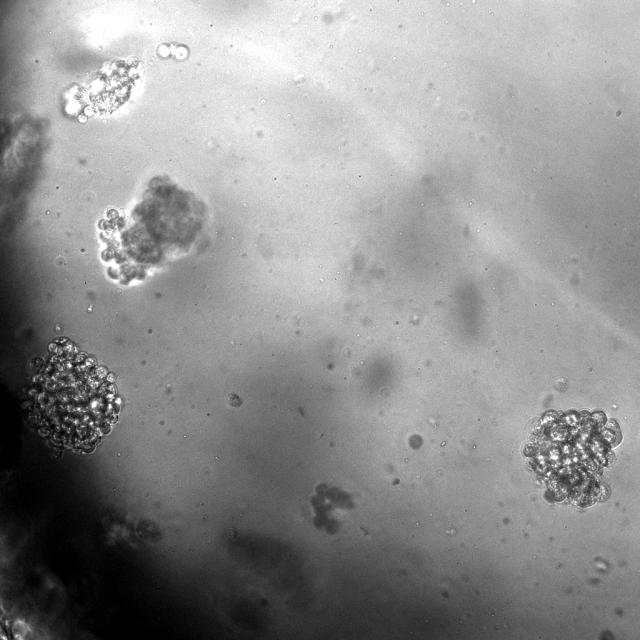organoid: (22, 336, 121, 455), (100, 175, 206, 284), (521, 408, 622, 509), (63, 56, 139, 122), (311, 483, 354, 534), (155, 42, 189, 60)
